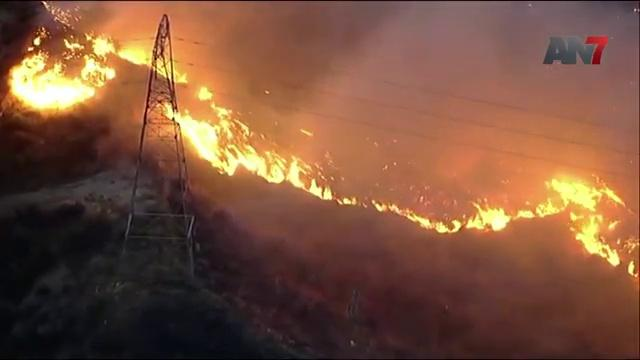fire: (10, 55, 91, 110), (229, 144, 300, 184), (185, 114, 223, 166), (547, 176, 610, 207), (91, 39, 150, 68), (582, 217, 621, 260), (478, 205, 511, 227)
